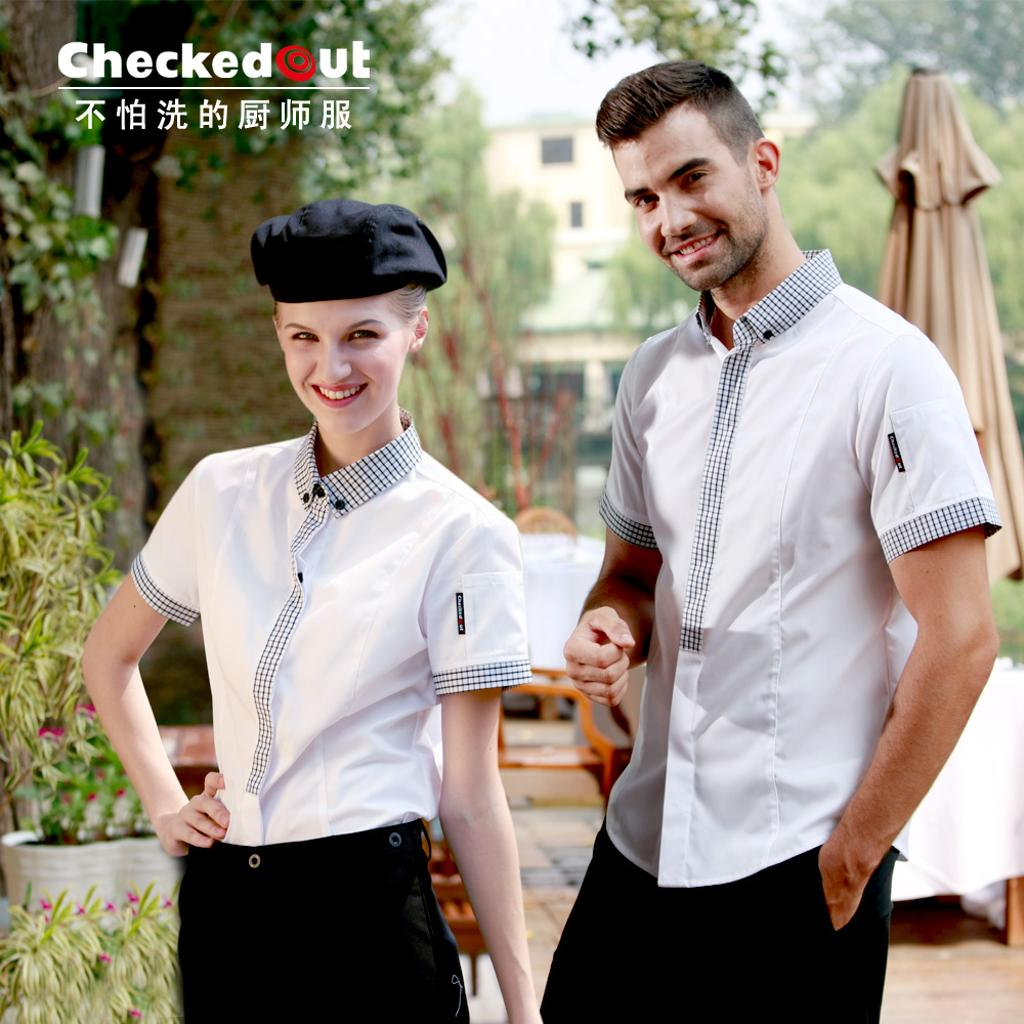face: (612, 114, 762, 288), (274, 282, 408, 428)
